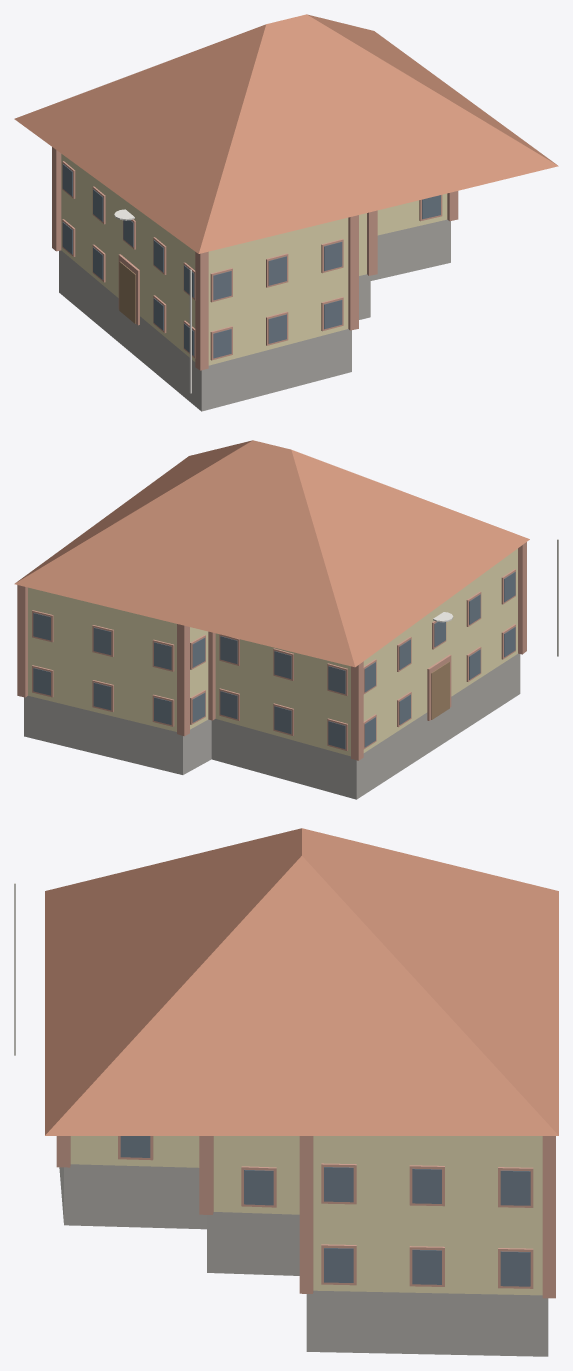
File: townhall-rathaus-sitzenkirch.glb
3 views of the same model, one above another, from view 1: azimuth 30°, elevation 25°; view 2: azimuth 150°, elevation 25°; view 3: azimuth 270°, elevation 25° (orthographic). The views are drawn at different scales.
Visible parts, largest first — view 1: building; view 2: building; view 3: building.
Part boxes in pixels (x1=…): building: x1=14, y1=14, x2=558, y2=411; building: x1=14, y1=440, x2=558, y2=799; building: x1=14, y1=828, x2=558, y2=1356.
Size of the model in its own units: 22.55 by 16.2 by 20.15.
